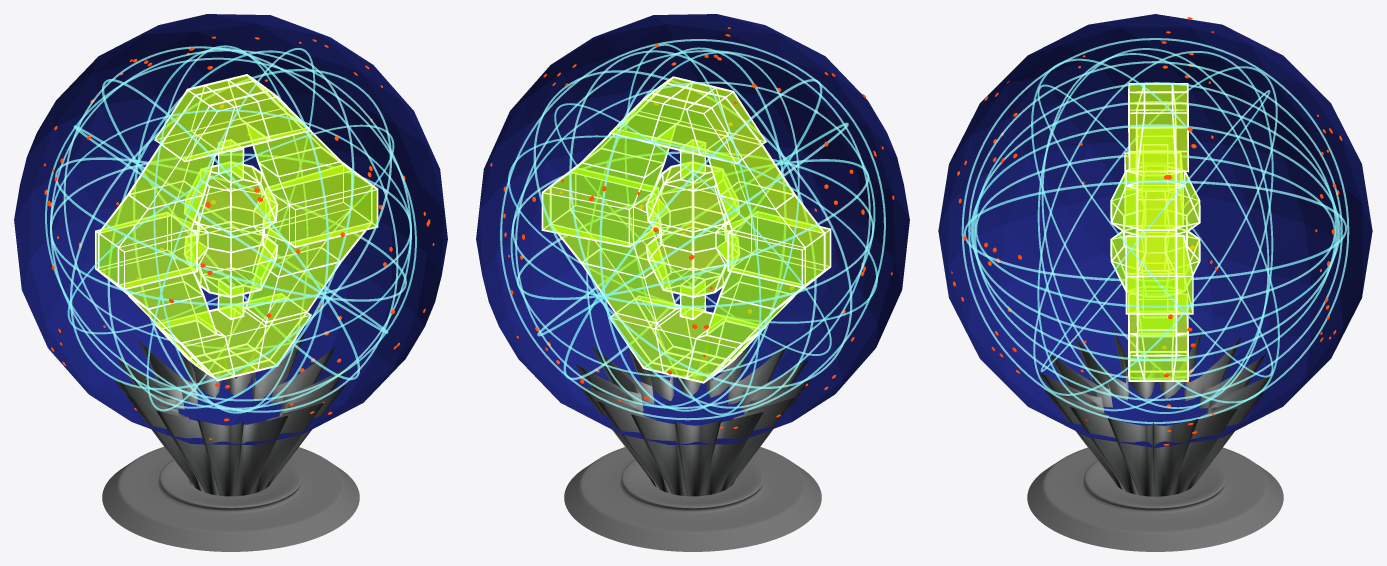
File: holo.fbx
The picture shows the model from 3 angles, left to right: view 1: azimuth 30°, elevation 25°; view 2: azimuth 150°, elevation 25°; view 3: azimuth 270°, elevation 25°; orthographic projection.
Parts seen in each view (by area): view 1: Icosphere, Cube, 3d-Hologramm, Sphere.001, Torus.021, Torus.000, Torus.003, Torus.002, Torus.004, Torus.022, Torus.001; view 2: Icosphere, Cube, 3d-Hologramm, Sphere.001, Torus.002, Torus.022, Torus.021, Torus.001, Torus.004, Torus.000, Torus.003; view 3: Icosphere, Cube, 3d-Hologramm, Sphere.001, Torus.003, Torus.022, Torus.001, Torus.004, Torus.021, Torus.002, Torus.000.
Part boxes in pixels (x1,y1,x2,y2): Icosphere: [14, 14, 447, 445]; Cube: [95, 74, 378, 381]; 3d-Hologramm: [102, 447, 359, 551]; Sphere.001: [113, 327, 348, 496]; Torus.021: [44, 46, 430, 421]; Torus.000: [49, 37, 411, 413]; Torus.003: [43, 45, 425, 439]; Torus.002: [60, 39, 434, 410]; Torus.004: [50, 36, 425, 406]; Torus.022: [47, 48, 429, 414]; Torus.001: [54, 45, 406, 413]; Icosphere: [476, 14, 909, 445]; Cube: [541, 76, 831, 383]; 3d-Hologramm: [564, 447, 821, 551]; Sphere.001: [575, 325, 810, 496]; Torus.002: [510, 34, 870, 417]; Torus.022: [500, 39, 885, 420]; Torus.021: [490, 70, 883, 389]; Torus.001: [508, 27, 894, 428]; Torus.004: [503, 51, 875, 406]; Torus.000: [504, 44, 892, 428]; Torus.003: [503, 44, 863, 415]; Icosphere: [938, 14, 1372, 447]; Cube: [1110, 83, 1200, 381]; 3d-Hologramm: [1027, 447, 1283, 551]; Sphere.001: [1038, 326, 1273, 496]; Torus.003: [957, 31, 1342, 425]; Torus.022: [951, 17, 1349, 445]; Torus.001: [961, 48, 1338, 415]; Torus.004: [964, 52, 1335, 420]; Torus.021: [953, 66, 1346, 433]; Torus.002: [958, 31, 1340, 377]; Torus.000: [963, 65, 1336, 431].
Bounding box in the file's own units: 2817 × 3317 × 2817.
